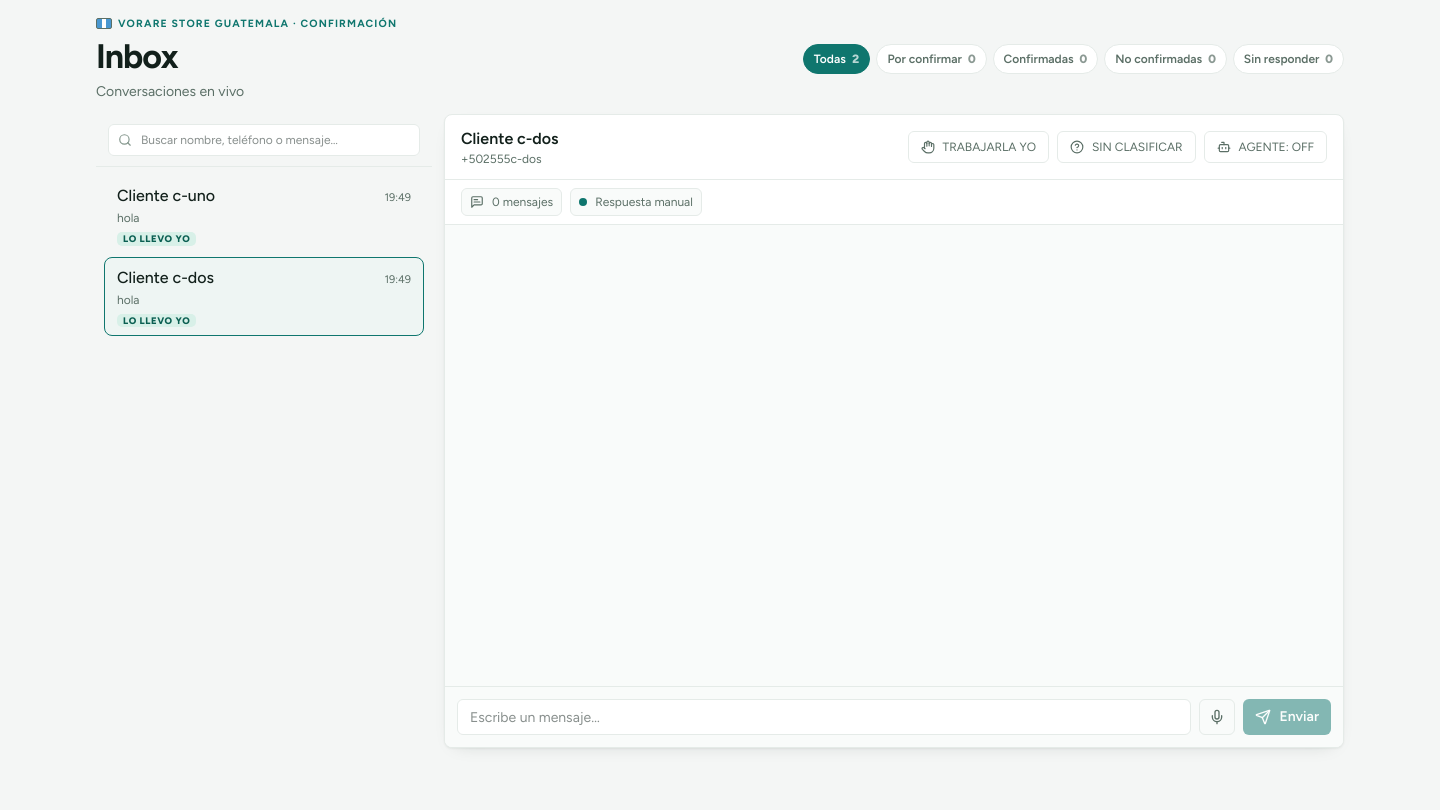
Test: Agente ON/OFF › deja la fila en ON sin llevarse el borrador, el filtro ni el chat abierto
The image size is (1440, 810).
Type "ya te confirmo la gu" into the field with placeholder "Escribe un mensaje…" at point(824, 717), box [457,699,1192,735]
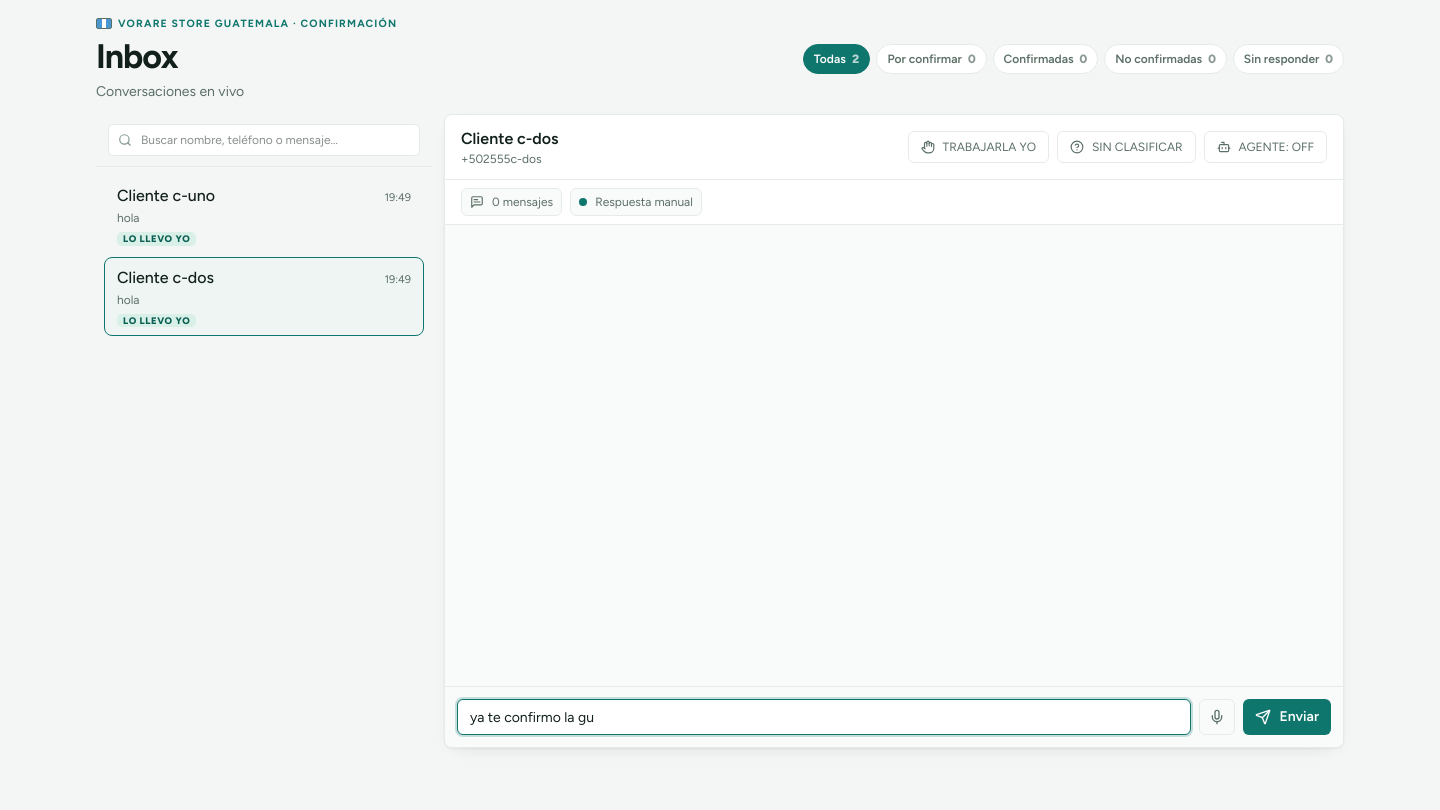
Click the button "Sin responder 0" at point(1288, 59), box [1233,44,1344,74]
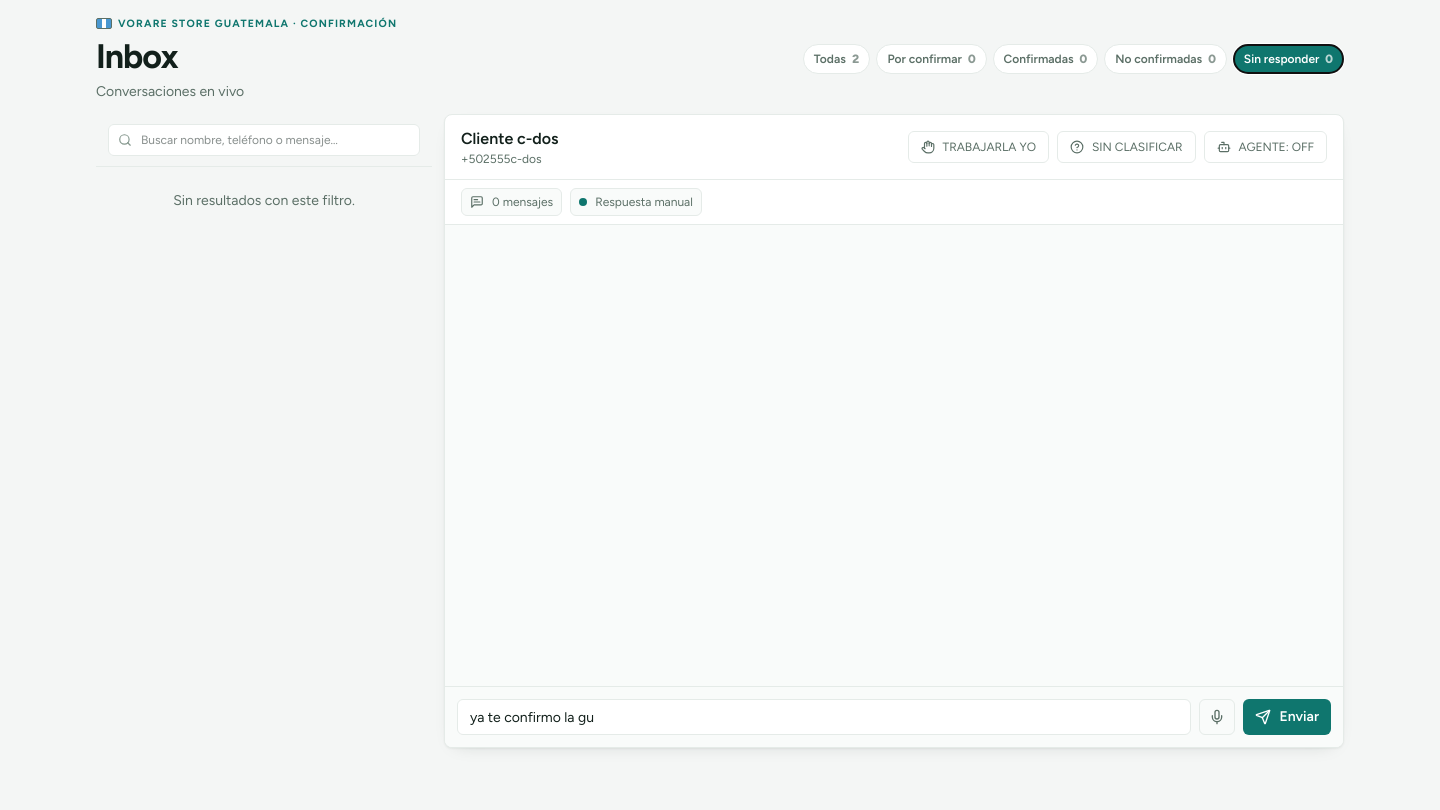
Click the button "Agente: OFF" at point(1265, 147), box [1204,131,1327,163]
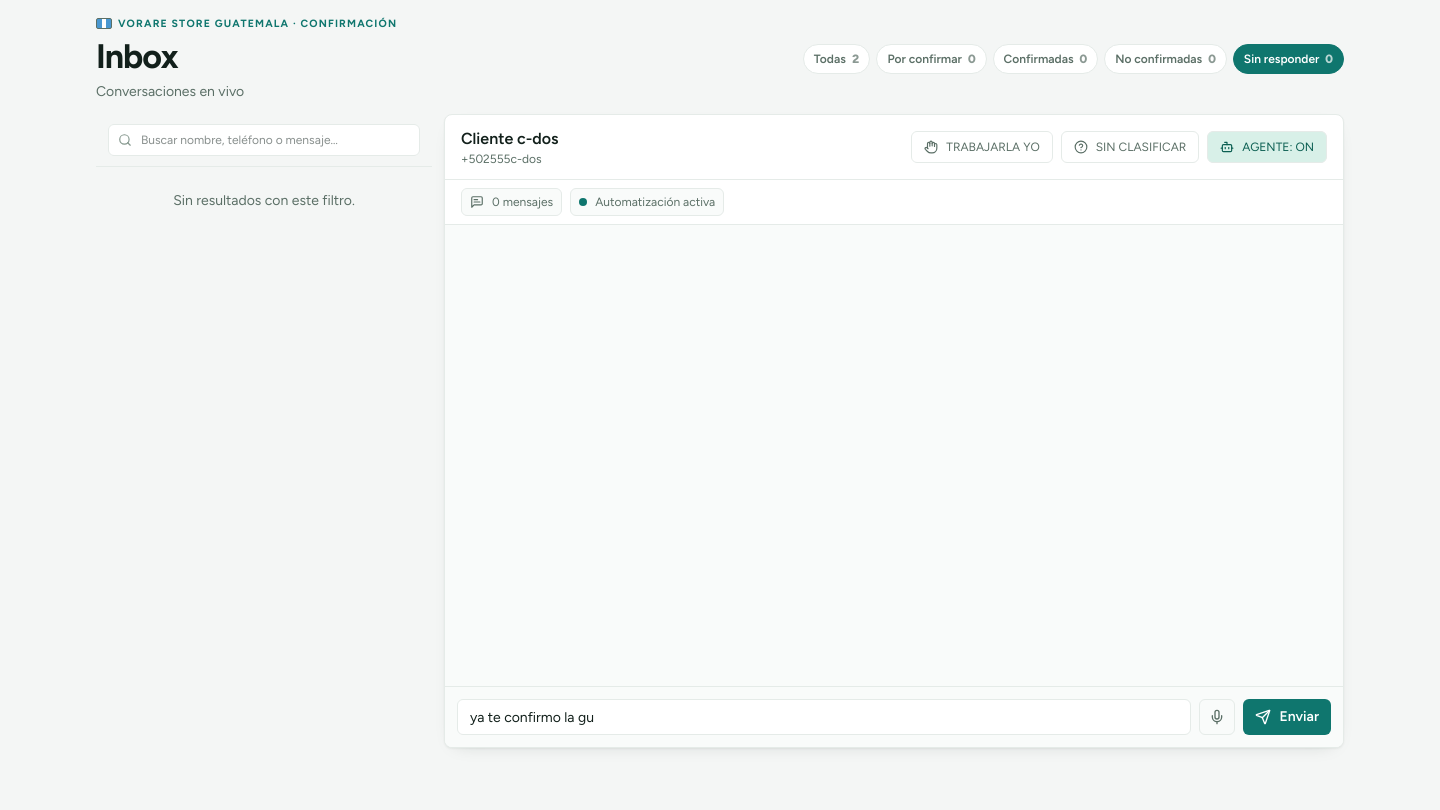
Check: the button "Sin responder 0" is shown, box [1233,44,1344,74]
Check: the button "Agente: ON" is shown, box [1207,131,1327,163]
